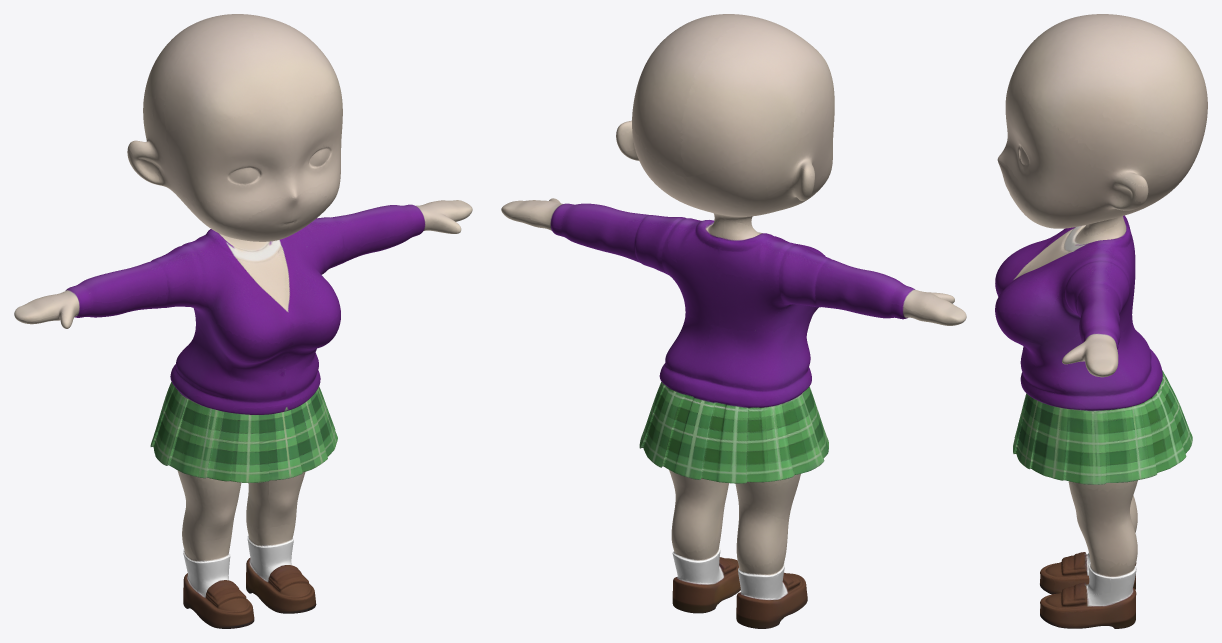
Rendered from baked_outfit_plaid.glb.
3 renders of one model, left to right at view 1: azimuth 30°, elevation 25°; view 2: azimuth 150°, elevation 25°; view 3: azimuth 270°, elevation 25°, orthographic.
Bounding box in the file's own units: 1.57 × 1.9 × 0.6334.
1 material, 1 textured.
